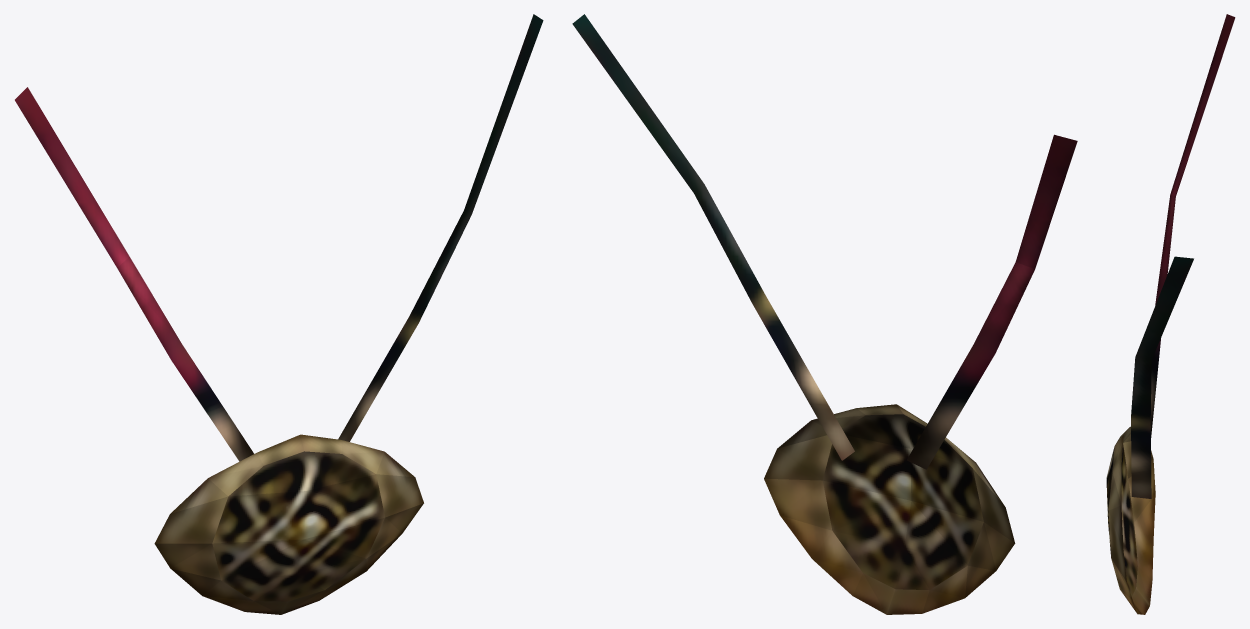
The model's file is necklace Strange.obj.
The picture shows the model from 3 angles, left to right: view 1: azimuth 30°, elevation 25°; view 2: azimuth 150°, elevation 25°; view 3: azimuth 270°, elevation 25°; orthographic projection. The views are drawn at different scales.
Visible parts, largest first — view 1: 3DGeom~2; view 2: 3DGeom~2; view 3: 3DGeom~2.
Boxes of the visible parts, x1,y1,x2,y2 form: 3DGeom~2: (15, 14, 543, 614); 3DGeom~2: (572, 14, 1077, 614); 3DGeom~2: (1106, 14, 1235, 614).
Bounding box in the file's own units: 16.03 × 16.63 × 3.92.
